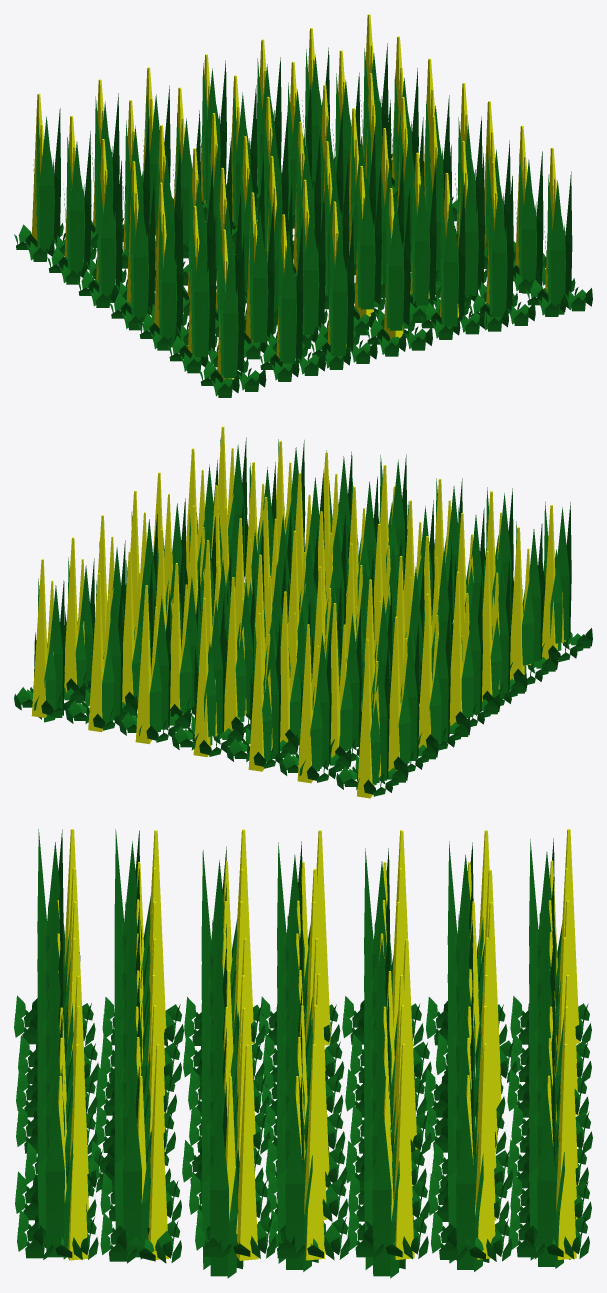
File: tanim.fbx
3 renders of one model, top to bottom at view 1: azimuth 30°, elevation 25°; view 2: azimuth 150°, elevation 25°; view 3: azimuth 270°, elevation 25°, orthographic. The views are drawn at different scales.
Visible parts, largest first — view 1: Cube.047; view 2: Cube.047; view 3: Cube.047.
Boxes of the visible parts, box(x1,y1,x2,y2) form: Cube.047: box(14, 14, 592, 397); Cube.047: box(14, 426, 592, 798); Cube.047: box(14, 829, 592, 1278).
Bounding box in the file's own units: 355 × 154 × 346.
